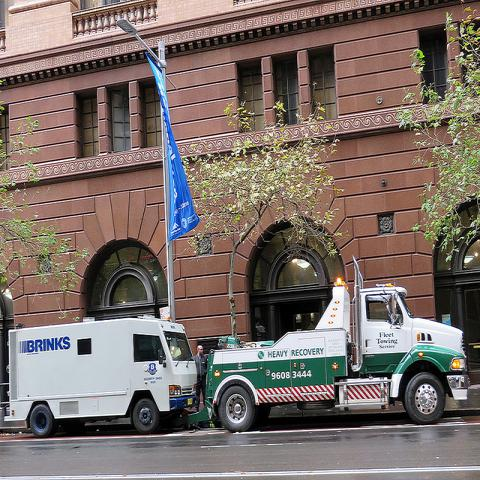truck: (210, 259, 476, 431), (4, 317, 203, 438)
